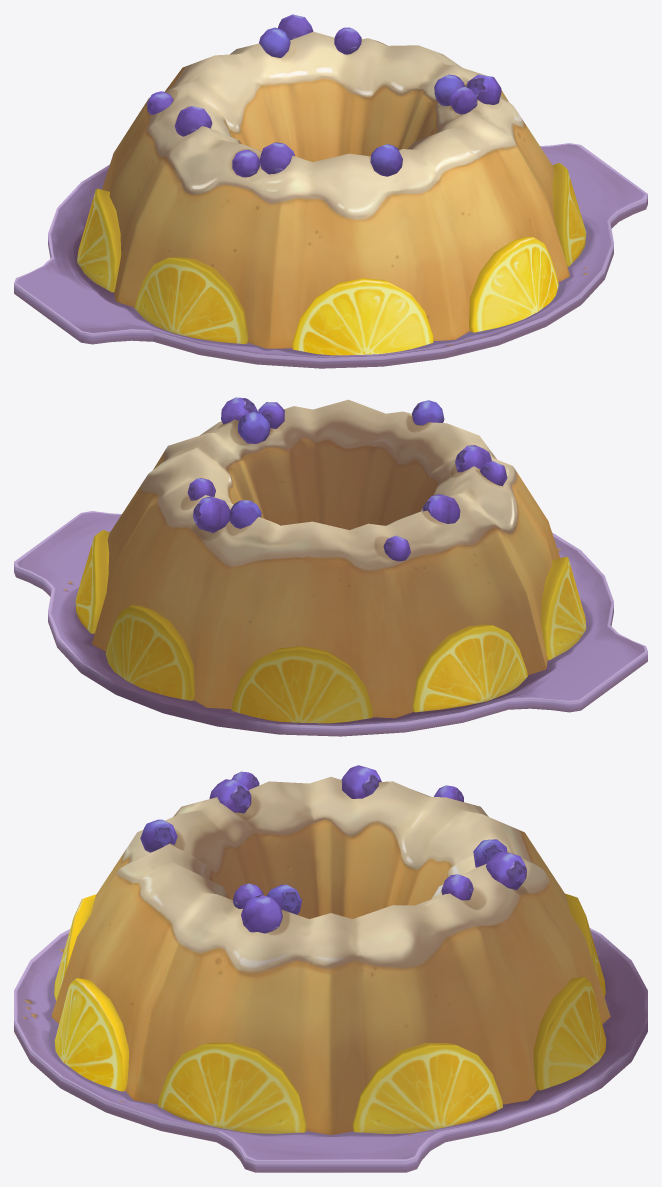
File: food3.glb
3 views of the same model, one above another, from view 1: azimuth 30°, elevation 25°; view 2: azimuth 150°, elevation 25°; view 3: azimuth 270°, elevation 25° (orthographic). The views are drawn at different scales.
Parts seen in each view (by area): view 1: Cake_V3; view 2: Cake_V3; view 3: Cake_V3.
Boxes of the visible parts, <box> form: Cake_V3: <box>14,14,647,368</box>; Cake_V3: <box>14,397,647,736</box>; Cake_V3: <box>14,765,647,1172</box>.
Size of the model in its own units: 56.06 by 17.02 by 48.22.
1 material, 1 textured.
